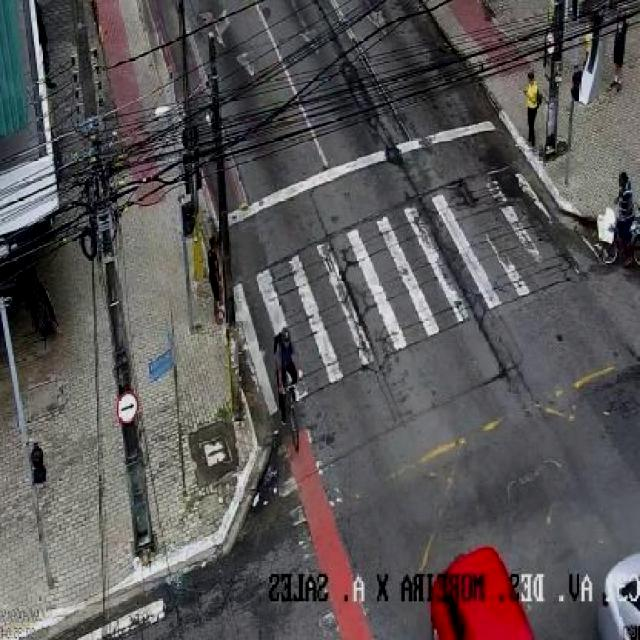Car: (431, 546, 537, 640), (594, 553, 640, 640)
Cycle: (595, 210, 640, 269), (274, 370, 306, 451)
